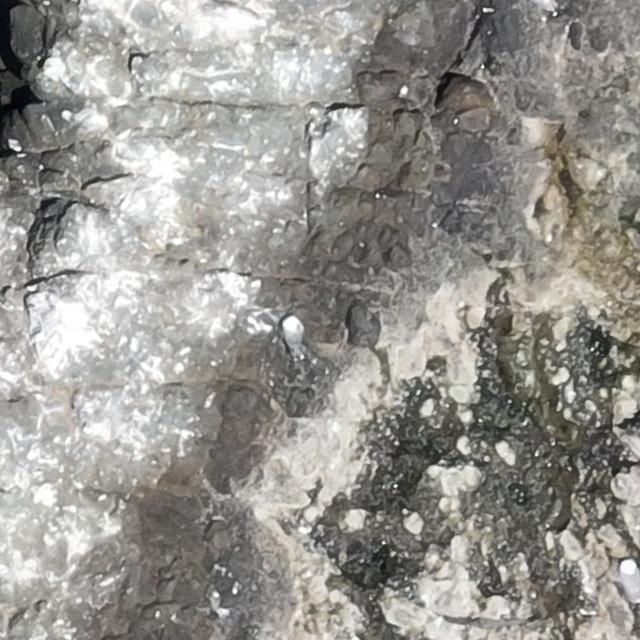umineko: (620, 560, 640, 602), (284, 317, 302, 351)
